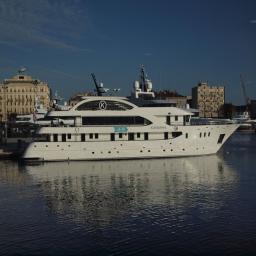cruises: (17, 70, 250, 165)
